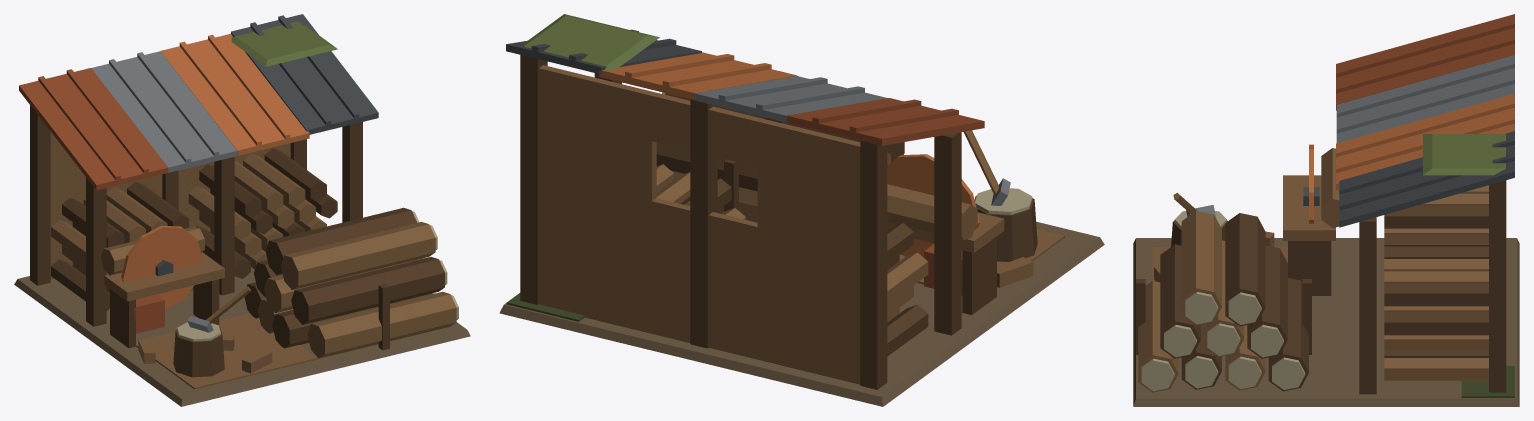
Rendered from woodcutter_l1.glb.
The picture shows the model from 3 angles, left to right: view 1: azimuth 30°, elevation 25°; view 2: azimuth 150°, elevation 25°; view 3: azimuth 270°, elevation 25°; orthographic projection. The views are drawn at different scales.
Visible parts, largest first — view 1: woodcutter_props, woodcutter_roof, woodcutter_structure; view 2: woodcutter_structure, woodcutter_props, woodcutter_roof; view 3: woodcutter_props, woodcutter_roof, woodcutter_structure.
Part boxes in pixels (x1=…): woodcutter_props: x1=51, y1=148, x2=458, y2=377; woodcutter_roof: x1=19, y1=14, x2=378, y2=190; woodcutter_structure: x1=14, y1=105, x2=470, y2=406; woodcutter_structure: x1=499, y1=55, x2=1104, y2=406; woodcutter_props: x1=656, y1=92, x2=1037, y2=356; woodcutter_roof: x1=506, y1=14, x2=984, y2=145; woodcutter_props: x1=1136, y1=144, x2=1488, y2=392; woodcutter_roof: x1=1336, y1=14, x2=1514, y2=227; woodcutter_structure: x1=1133, y1=180, x2=1519, y2=406.
Size of the model in its own units: 4 by 2.71 by 4.
